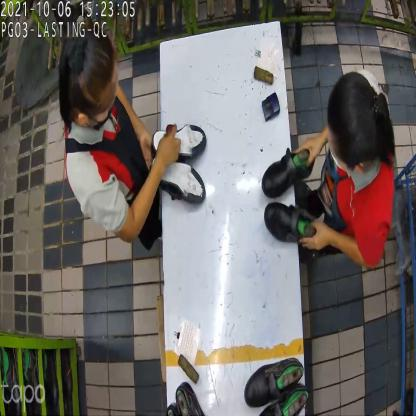shoes: (258, 148, 322, 252), (149, 121, 208, 206), (242, 357, 312, 415)
stamp: (161, 120, 179, 166), (260, 91, 280, 125)
